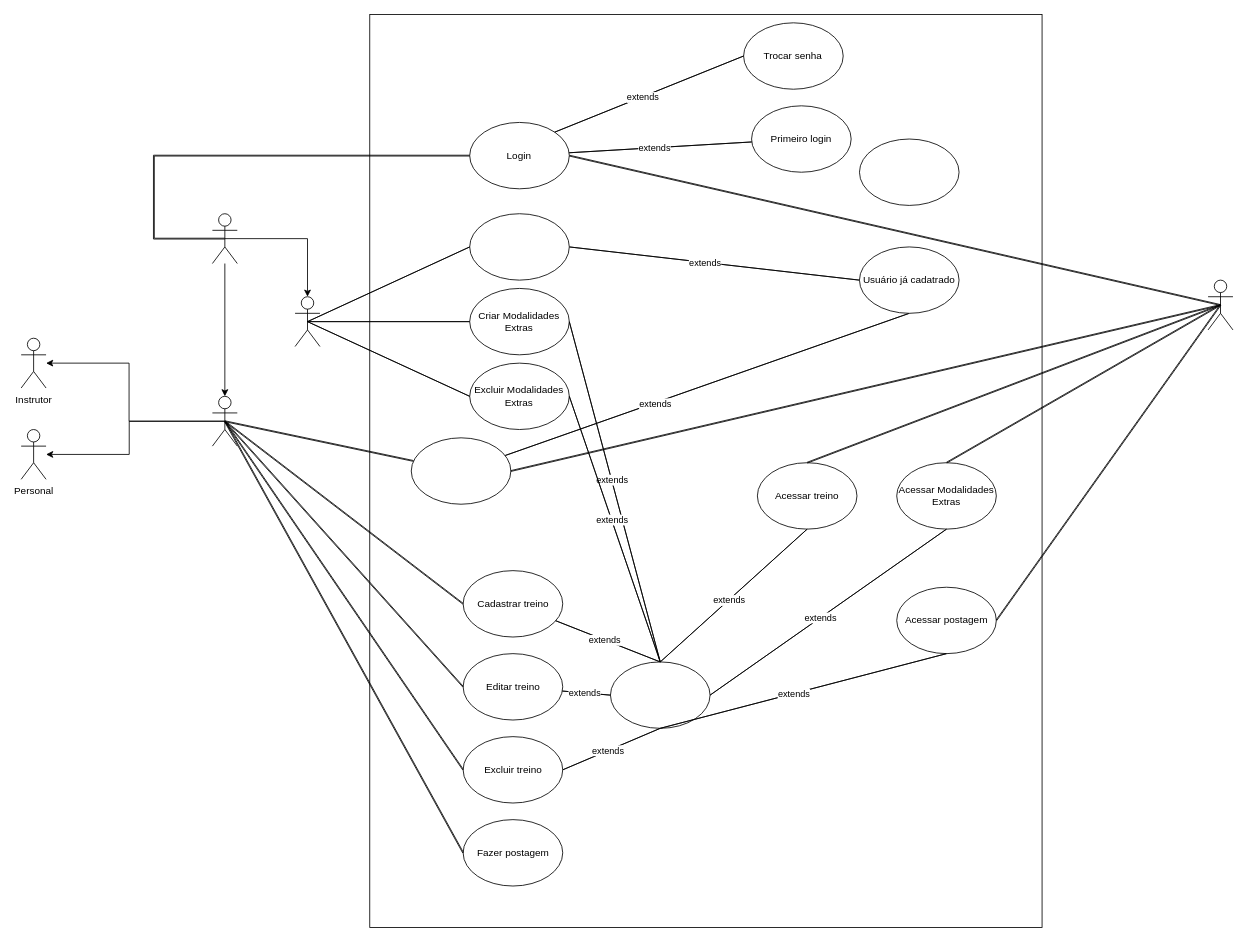
The diagram is 1247 pixels wide and 942 high, and some of its shapes have lost their labels. Each missing label, with the centre of its shape:
Administrador: the point at 307,321
Aluno: the point at 1220,304
Criar conta (aluno): the point at 460,470
Criar conta (funcionários): the point at 519,246
Dados incorretos: the point at 909,171
Educador Físico: the point at 224,420
Erro de requisição: the point at 660,694
Funcionário: the point at 224,238
